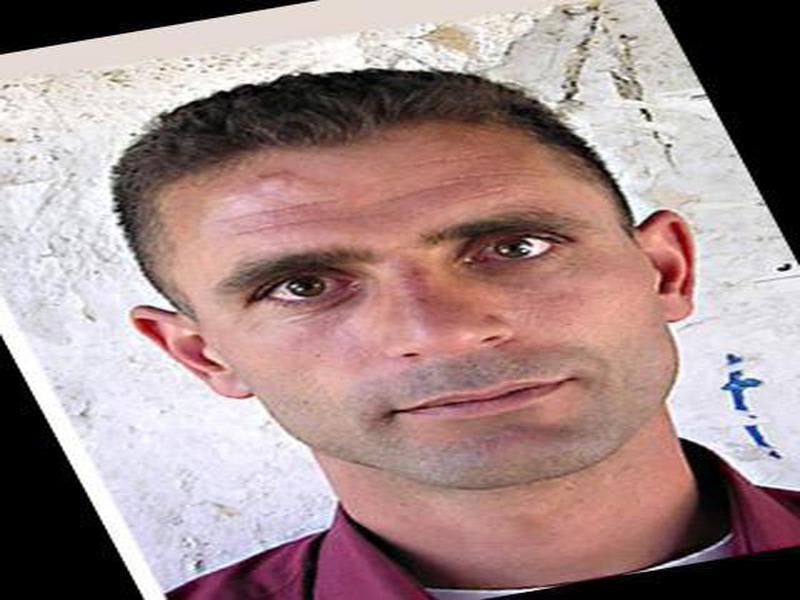without_mask: (159, 138, 651, 485)
